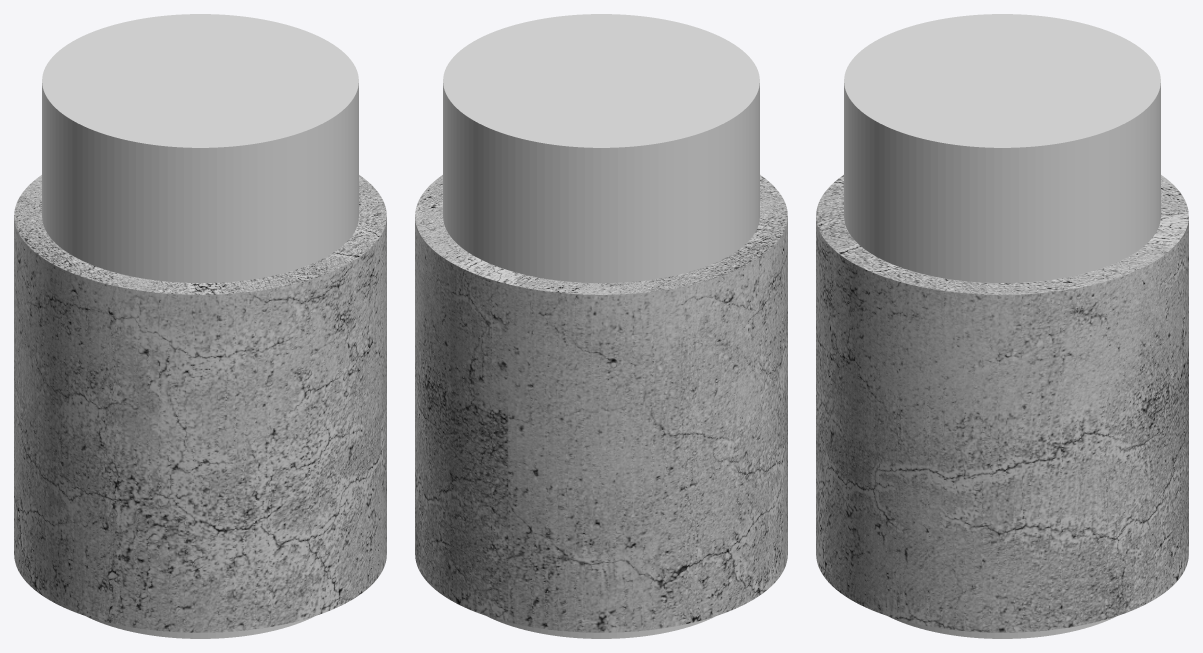
The model's file is вазон1.glb.
The picture shows the model from 3 angles, left to right: view 1: azimuth 30°, elevation 25°; view 2: azimuth 150°, elevation 25°; view 3: azimuth 270°, elevation 25°; orthographic projection.
Parts seen in each view (by area): view 1: Цилиндр, Цилиндр.001, Цилиндр.002; view 2: Цилиндр, Цилиндр.001, Цилиндр.002; view 3: Цилиндр, Цилиндр.001, Цилиндр.002.
Boxes of the visible parts, x1,y1,x2,y2 form: Цилиндр: [14, 175, 386, 632]; Цилиндр.001: [42, 14, 358, 282]; Цилиндр.002: [86, 616, 314, 638]; Цилиндр: [415, 175, 787, 632]; Цилиндр.001: [443, 14, 759, 282]; Цилиндр.002: [487, 616, 715, 638]; Цилиндр: [816, 175, 1188, 632]; Цилиндр.001: [844, 14, 1160, 282]; Цилиндр.002: [888, 616, 1116, 638].
Bounding box in the file's own units: 2 × 2.93 × 2.
1 material, 1 textured.
